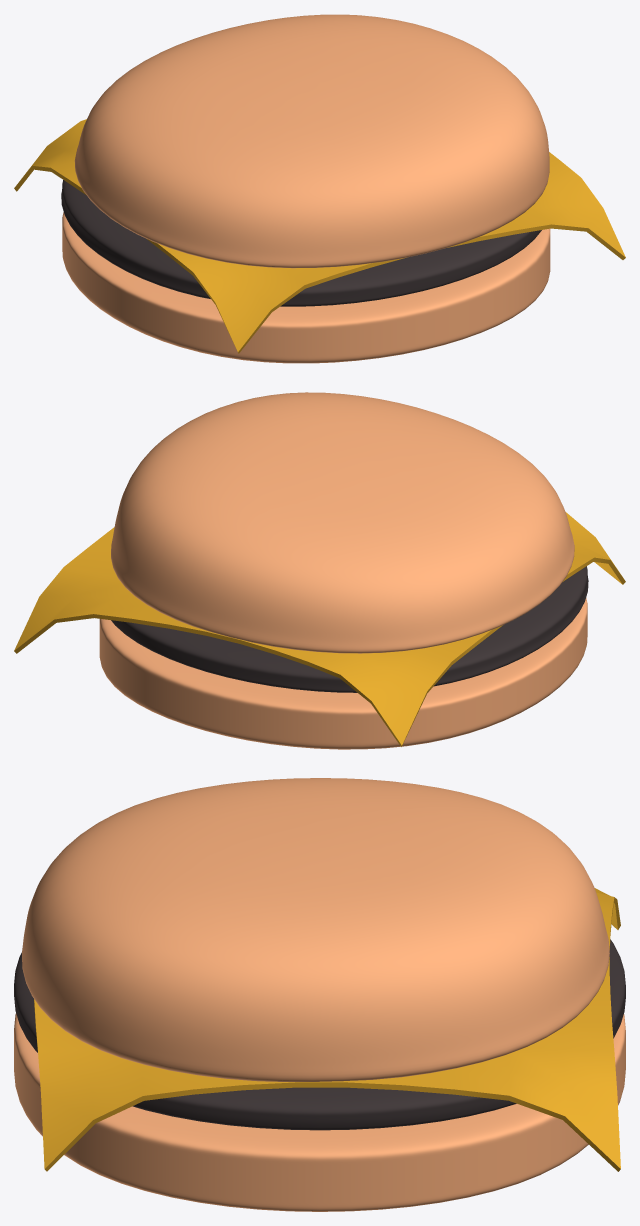
The model's file is hamburger.glb.
3 views of the same model, one above another, from view 1: azimuth 30°, elevation 25°; view 2: azimuth 150°, elevation 25°; view 3: azimuth 270°, elevation 25° (orthographic). The views are drawn at different scales.
Parts seen in each view (by area): view 1: Cube.002, Cube, Plane, Cube.001; view 2: Cube.002, Cube, Plane, Cube.001; view 3: Cube.002, Cube, Plane, Cube.001.
Part boxes in pixels (x1,y1,x2,y2): Cube.002: (74,14,549,268); Cube: (62,212,550,363); Plane: (14,119,625,353); Cube.001: (61,180,541,306); Cube.002: (111,392,574,653); Cube: (99,598,587,749); Plane: (14,512,625,746); Cube.001: (111,566,588,692); Cube.002: (22,778,609,1081); Cube: (14,1013,625,1211); Plane: (34,888,620,1171); Cube.001: (14,939,625,1130).
Size of the model in its own units: 9.24 by 4.08 by 9.04.
